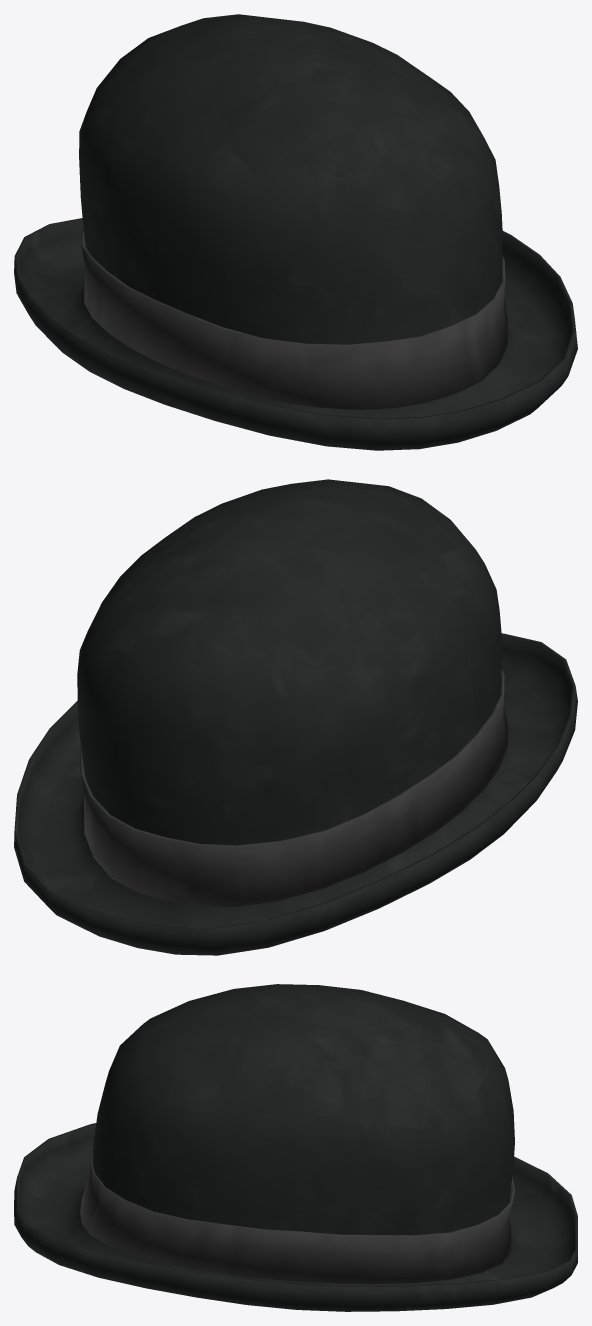
File: culturalibre-cl-bowler-hat.glb
3 renders of one model, top to bottom at view 1: azimuth 30°, elevation 25°; view 2: azimuth 150°, elevation 25°; view 3: azimuth 270°, elevation 25°, orthographic. The views are drawn at different scales.
Visible parts, largest first — view 1: Human.culturalibre_cl_bowler_hat; view 2: Human.culturalibre_cl_bowler_hat; view 3: Human.culturalibre_cl_bowler_hat.
Part boxes in pixels (left/top/right/bottom): Human.culturalibre_cl_bowler_hat: left=14, top=14, right=577, bottom=450; Human.culturalibre_cl_bowler_hat: left=14, top=479, right=577, bottom=955; Human.culturalibre_cl_bowler_hat: left=14, top=984, right=577, bottom=1311.
Size of the model in its own units: 0.2195 by 0.1534 by 0.2966.
Materials: 1 (1 with a texture image).
